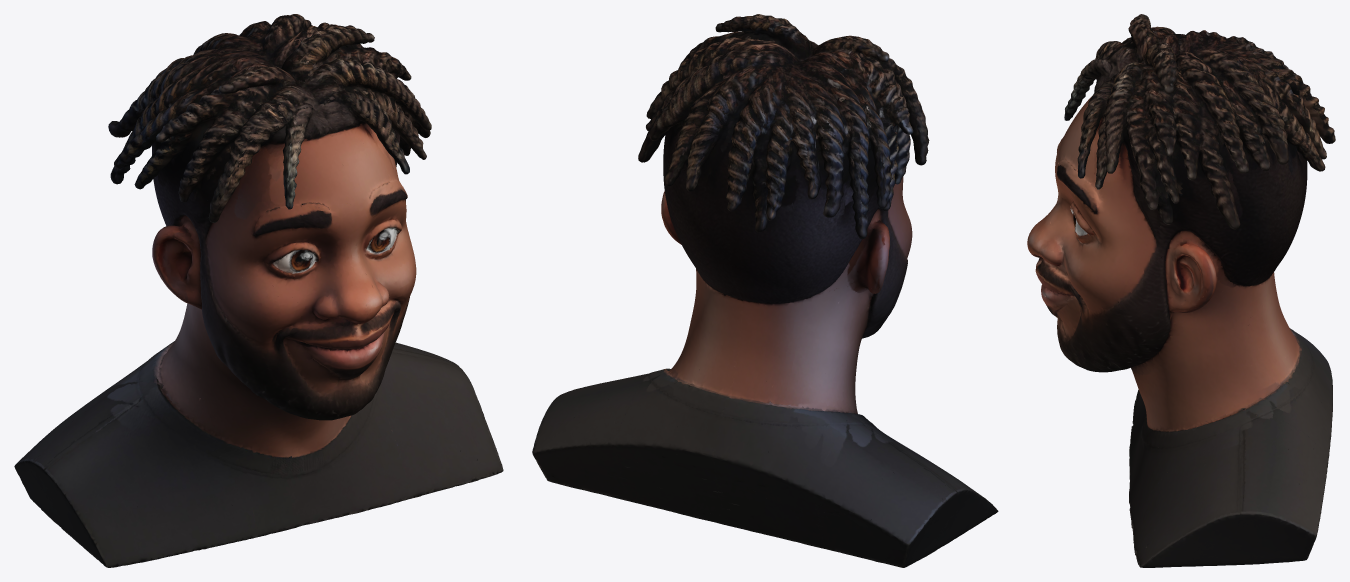
File: saint-head-v2.glb
3 views of the same model, side by side, from view 1: azimuth 30°, elevation 25°; view 2: azimuth 150°, elevation 25°; view 3: azimuth 270°, elevation 25° (orthographic). The views are drawn at different scales.
Visible parts, largest first — view 1: SaintHead; view 2: SaintHead; view 3: SaintHead.
Part boxes in pixels (x1,y1,x2,y2): SaintHead: (14, 14, 503, 567); SaintHead: (532, 14, 998, 567); SaintHead: (1027, 14, 1335, 567).
Bounding box in the file's own units: 1.5 × 1.62 × 1.02.
Materials: 1 (1 with a texture image).
